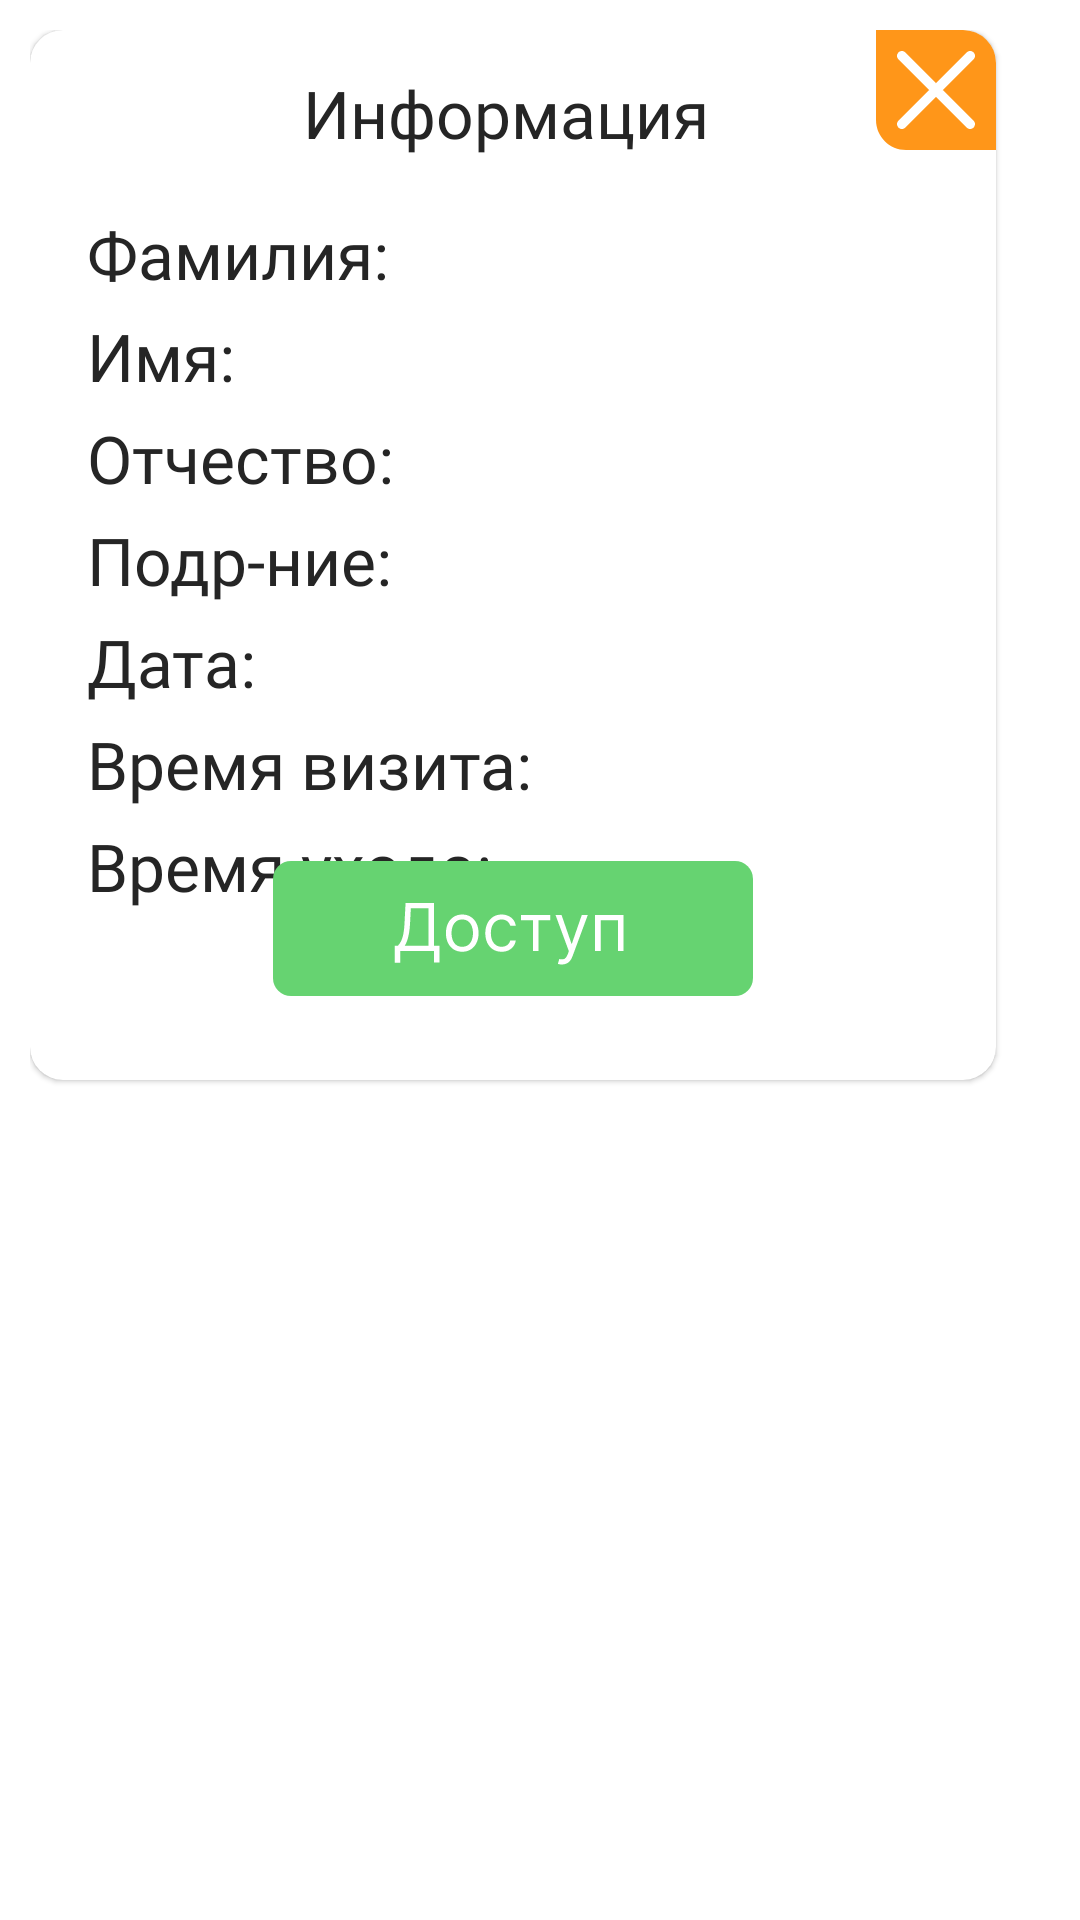

Icons on this 1080 × 1920 Android screen, each with its box as (x1, y1, x2, y2):
close fragment: (876, 30, 996, 150)
